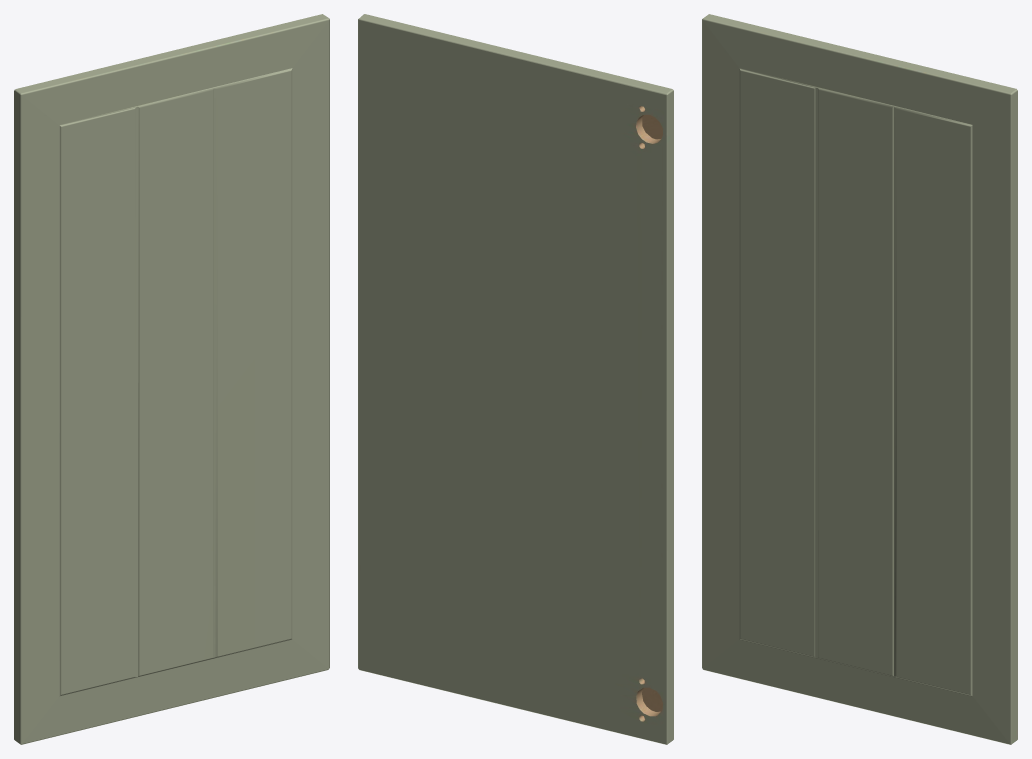
Rendered from stensund_drzwi_50523916.glb.
The picture shows the model from 3 angles, left to right: view 1: azimuth 30°, elevation 25°; view 2: azimuth 150°, elevation 25°; view 3: azimuth 330°, elevation 25°; orthographic projection.
Parts seen in each view (by area): view 1: stensund_drzwi_50523916; view 2: stensund_drzwi_50523916; view 3: stensund_drzwi_50523916.
Part boxes in pixels (x1=…): stensund_drzwi_50523916: x1=14, y1=14, x2=329, y2=744; stensund_drzwi_50523916: x1=358, y1=14, x2=673, y2=744; stensund_drzwi_50523916: x1=702, y1=14, x2=1017, y2=744.
Size of the model in its own units: 0.397 by 0.797 by 0.0181.
1 material, 1 textured.
